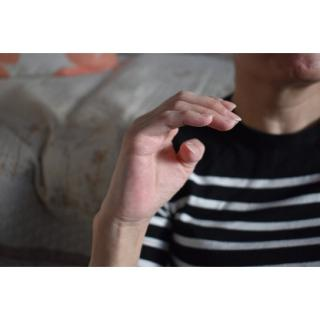JEEM: (92, 86, 244, 222)
